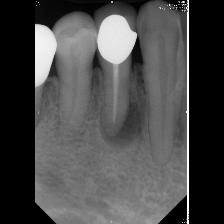apical_lesion: (92, 2, 146, 159)
